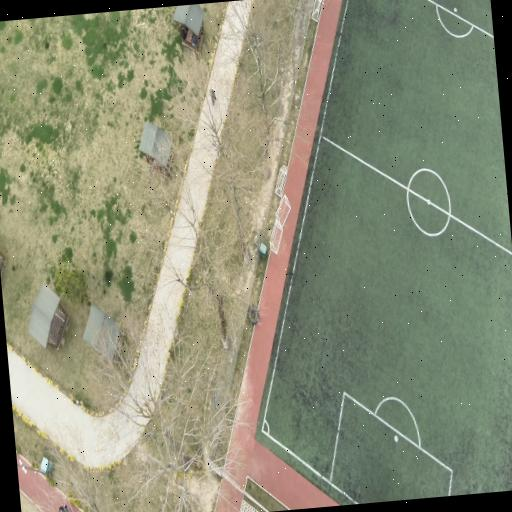person: (210, 88, 216, 105), (181, 25, 187, 40), (192, 34, 198, 48), (59, 505, 70, 511), (59, 506, 65, 511)
